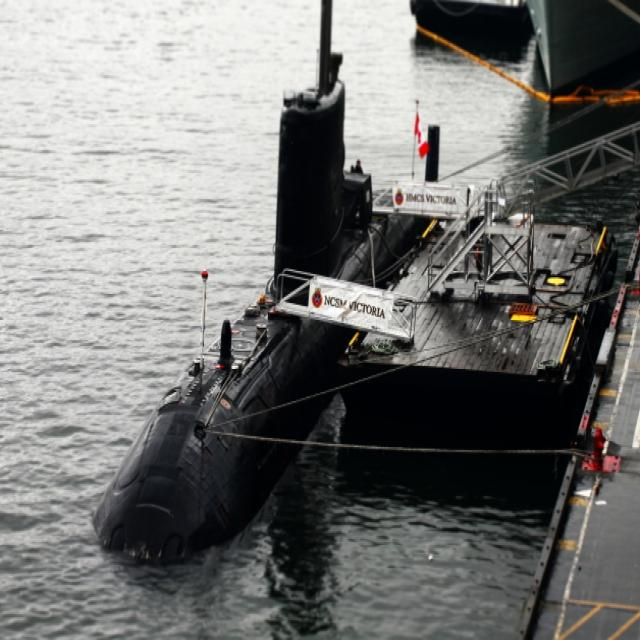submarine: (90, 1, 436, 552)
